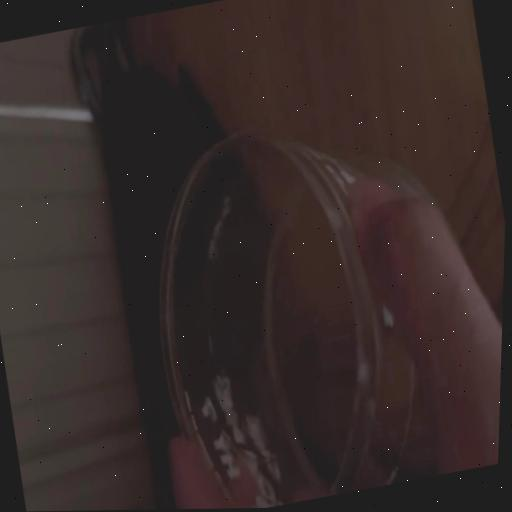ly_giay: (160, 136, 433, 508)
